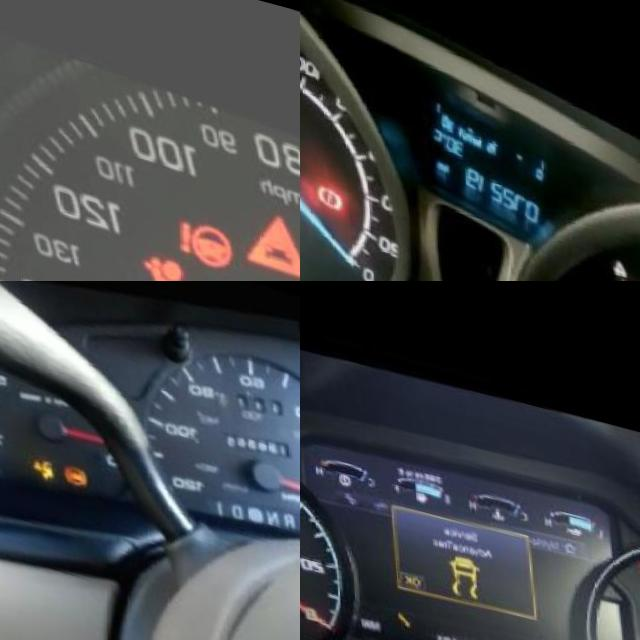Engine cooling system: (490, 490, 502, 502)
Low fuel level: (414, 478, 422, 488)
